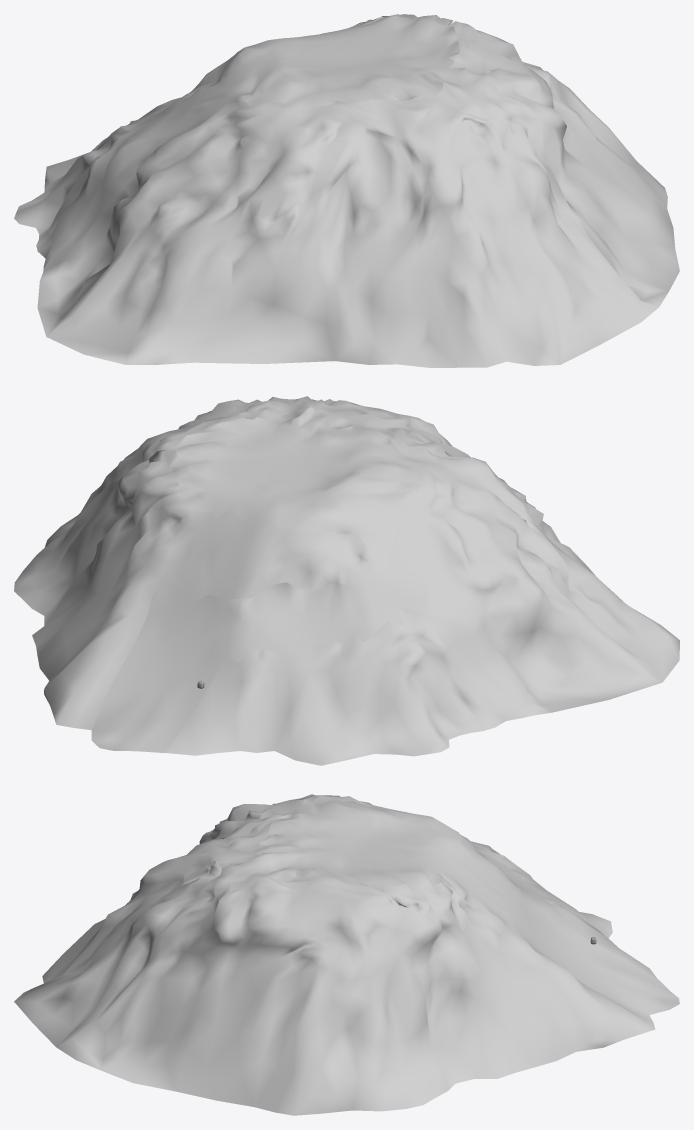
File: RocksOnMountain.fbx
3 renders of one model, top to bottom at view 1: azimuth 30°, elevation 25°; view 2: azimuth 150°, elevation 25°; view 3: azimuth 270°, elevation 25°, orthographic. The views are drawn at different scales.
Parts seen in each view (by area): view 1: node_Mountain3_-1129440; view 2: node_Mountain3_-1129440; view 3: node_Mountain3_-1129440.
Part boxes in pixels (box(x1,y1,x2,y2)): node_Mountain3_-1129440: box(14, 14, 679, 367); node_Mountain3_-1129440: box(14, 396, 679, 765); node_Mountain3_-1129440: box(14, 794, 679, 1115).
Bounding box in the file's own units: 25232 × 6945 × 26207.
